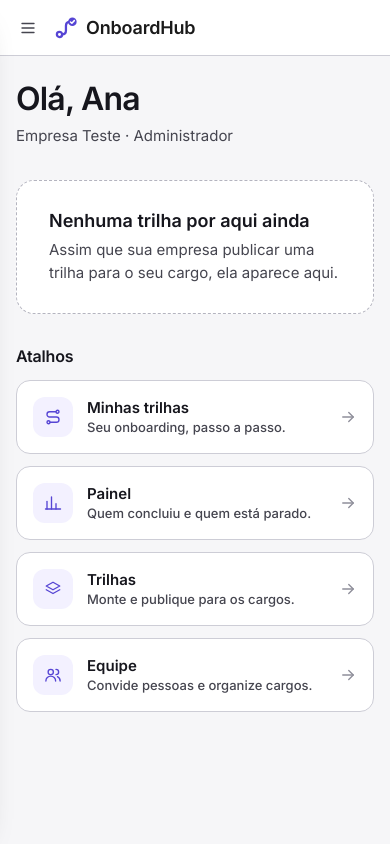
Test: menu lateral › fecha a gaveta com Esc
The image size is (390, 844).
Click the button named "Abrir menu": (28, 28) [12,12,44,44]
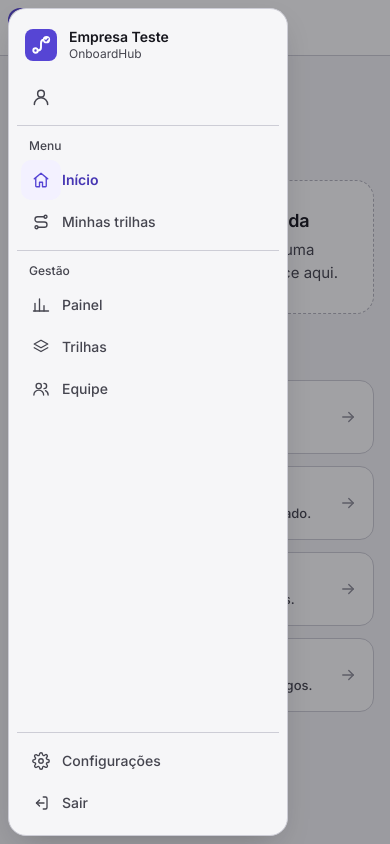
Press Escape
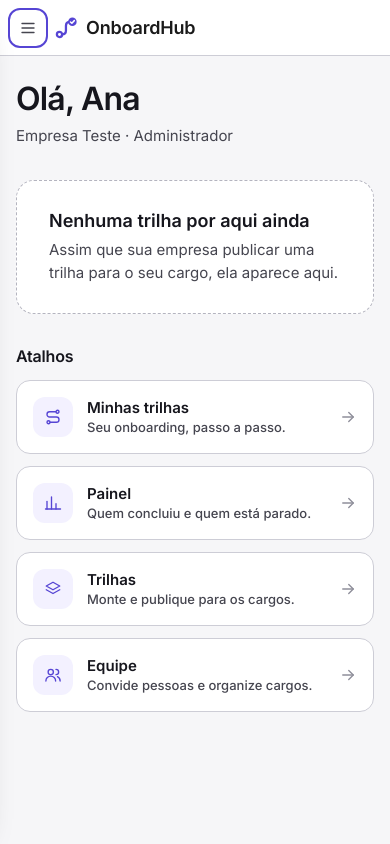
Expected: the button named "Abrir menu" is collapsed, [12,12,44,44]
